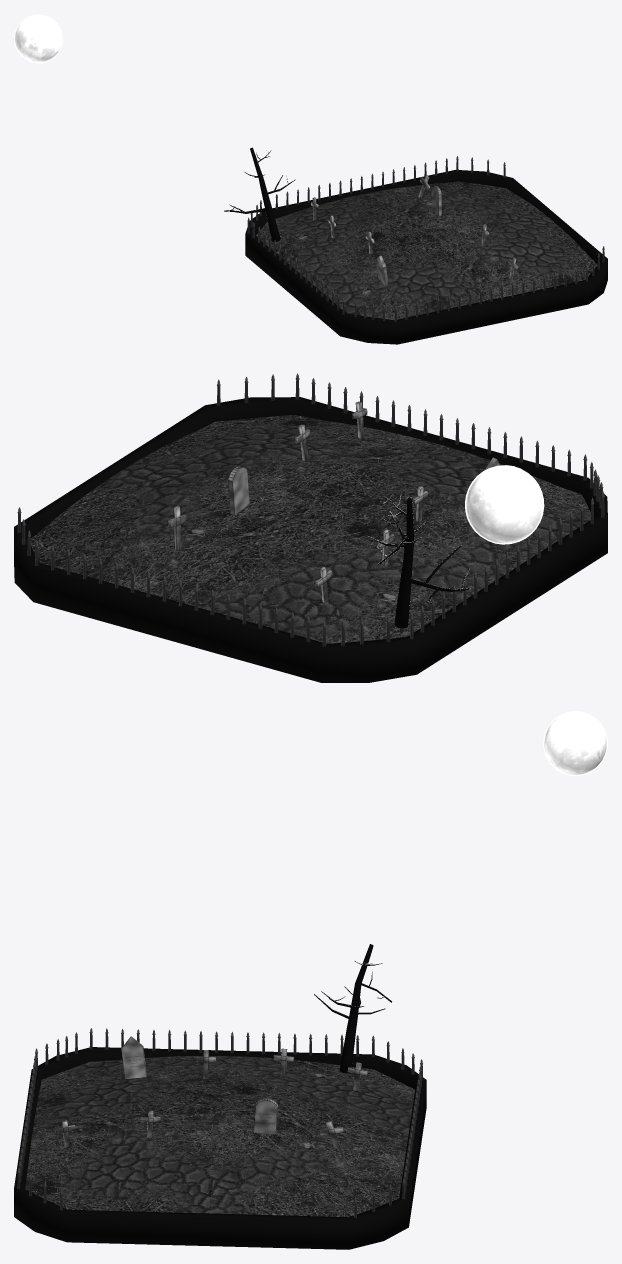
File: cemetery.glb
3 views of the same model, one above another, from view 1: azimuth 30°, elevation 25°; view 2: azimuth 150°, elevation 25°; view 3: azimuth 270°, elevation 25° (orthographic). The views are drawn at different scales.
Parts seen in each view (by area): view 1: Object_2, Object_8, Object_9, Object_7, Object_10, Object_3; view 2: Object_2, Object_8, Object_9, Object_7, Object_10, Object_3, Object_5; view 3: Object_2, Object_8, Object_9, Object_10, Object_7, Object_3.
Part boxes in pixels (bbox=[...]): Object_2: bbox=[256, 181, 597, 320]; Object_8: bbox=[245, 170, 607, 344]; Object_9: bbox=[247, 156, 604, 321]; Object_7: bbox=[15, 15, 62, 62]; Object_10: bbox=[311, 175, 518, 286]; Object_3: bbox=[224, 147, 295, 241]; Object_2: bbox=[30, 415, 590, 643]; Object_8: bbox=[14, 397, 607, 682]; Object_9: bbox=[17, 373, 604, 646]; Object_7: bbox=[466, 466, 542, 542]; Object_10: bbox=[167, 401, 499, 603]; Object_3: bbox=[367, 497, 469, 628]; Object_5: bbox=[465, 465, 544, 544]; Object_2: bbox=[25, 1056, 414, 1217]; Object_8: bbox=[14, 1047, 426, 1249]; Object_9: bbox=[17, 1028, 422, 1218]; Object_10: bbox=[55, 1036, 368, 1149]; Object_7: bbox=[544, 712, 606, 774]; Object_3: bbox=[314, 944, 391, 1073].
Size of what is drawn, in the model's own units: 39.92 by 19.99 by 37.83.
7 materials, 3 textured.
